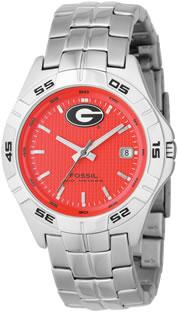watch: (2, 63, 178, 247)
